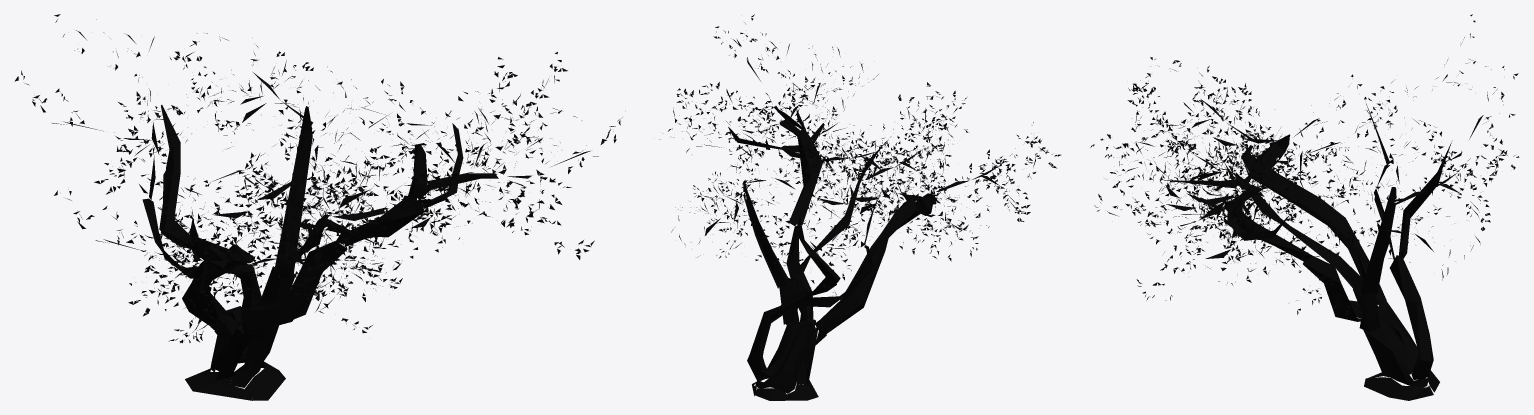
Rendered from Broad_Round_A.glb.
The picture shows the model from 3 angles, left to right: view 1: azimuth 30°, elevation 25°; view 2: azimuth 150°, elevation 25°; view 3: azimuth 270°, elevation 25°; orthographic projection. The views are drawn at different scales.
Visible parts, largest first — view 1: tree; view 2: tree; view 3: tree.
Part boxes in pixels (x1=…): tree: x1=14, y1=14, x2=622, y2=400; tree: x1=659, y1=14, x2=1060, y2=400; tree: x1=1090, y1=14, x2=1519, y2=400.
Bounding box in the file's own units: 4.03 × 3.21 × 3.99.
Materials: 1 (1 with a texture image).
